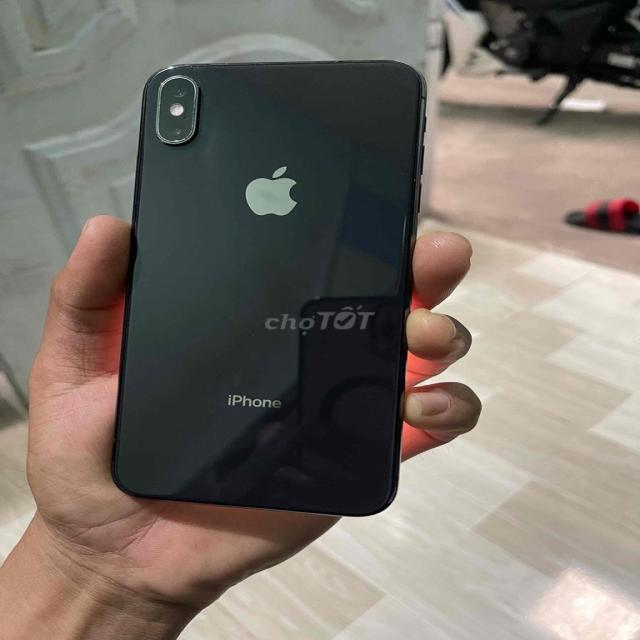gen_x_xs: (111, 61, 425, 516)
scratch: (154, 65, 230, 103), (169, 126, 183, 152), (178, 106, 204, 119), (188, 121, 200, 134)
